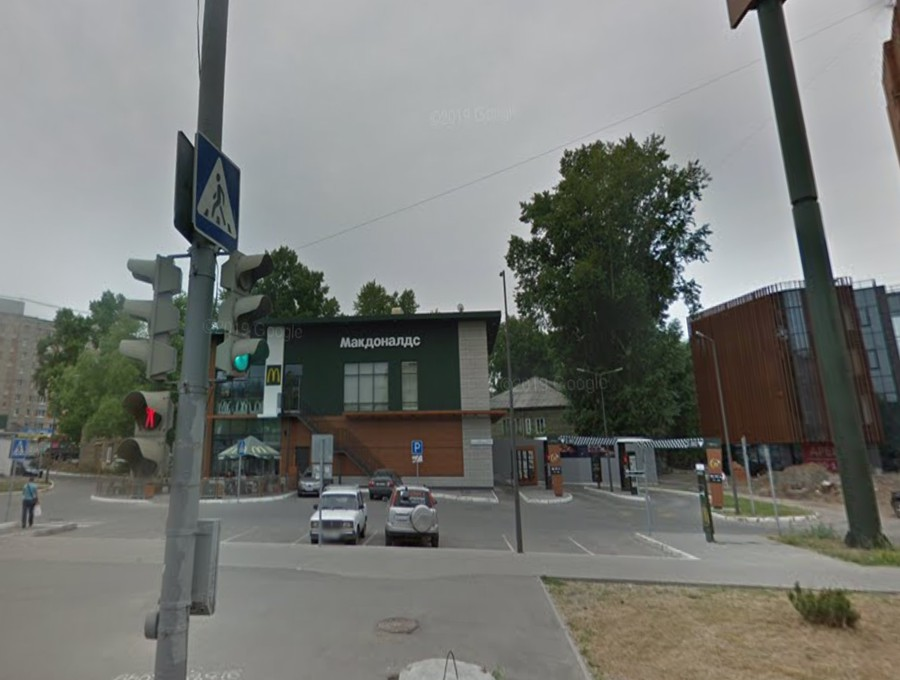Traffic Light-red: (122, 381, 173, 483)
